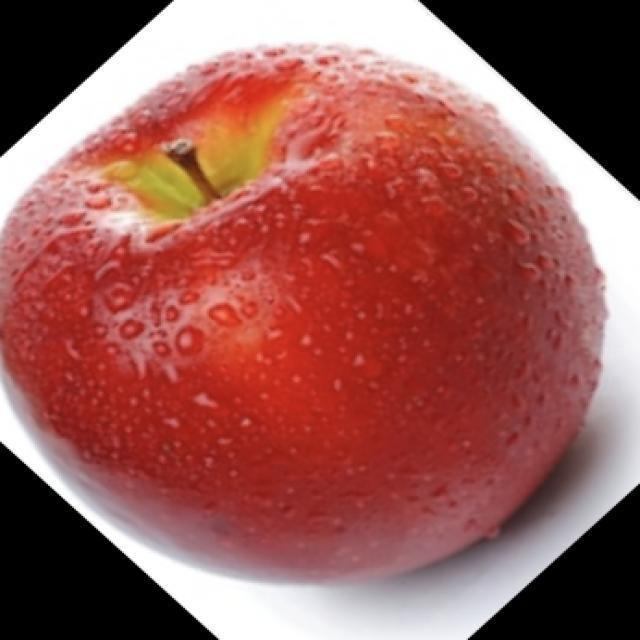Fresh Apple: (0, 44, 612, 582)
